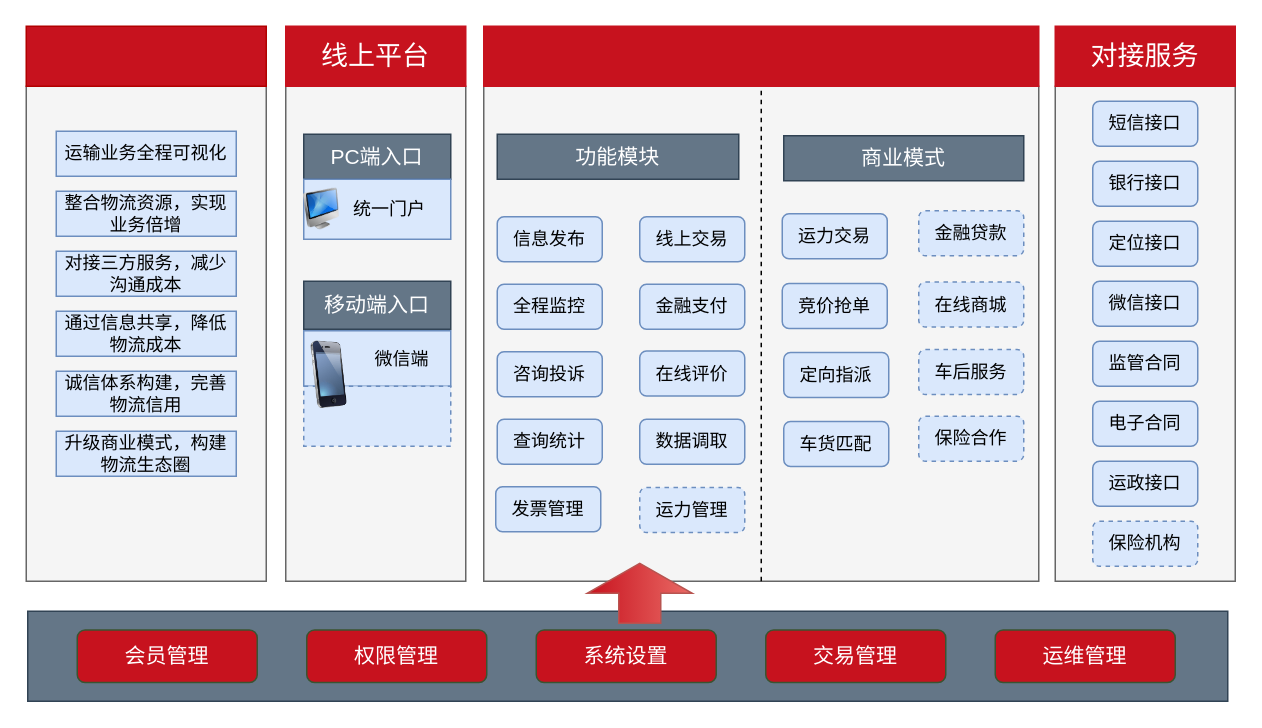
This 1262x728 diagram has some shape labels left out. The shapes that lost their labels are listed below. From the top down, each one's box as (x1, y1, x2, y2) in pixels, then its label:
(25, 25, 266, 86): 平台目标
(482, 25, 1039, 86): 网络货运平台
(302, 385, 451, 446): APP端
